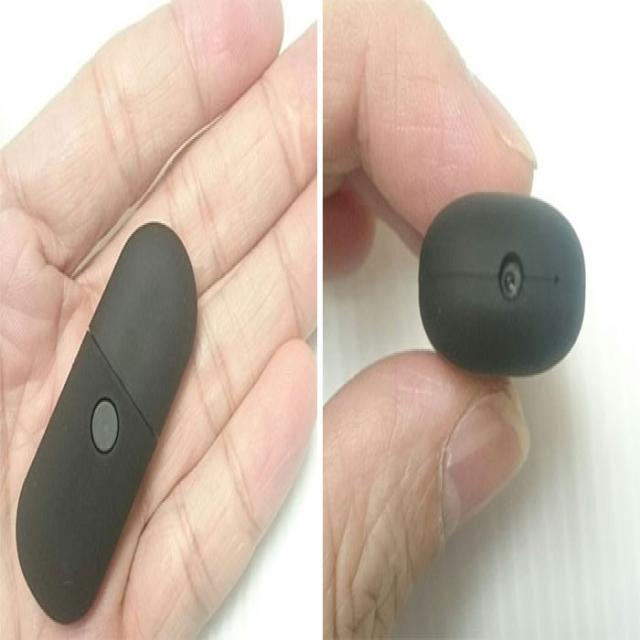hidden camera: (501, 265, 517, 298)
